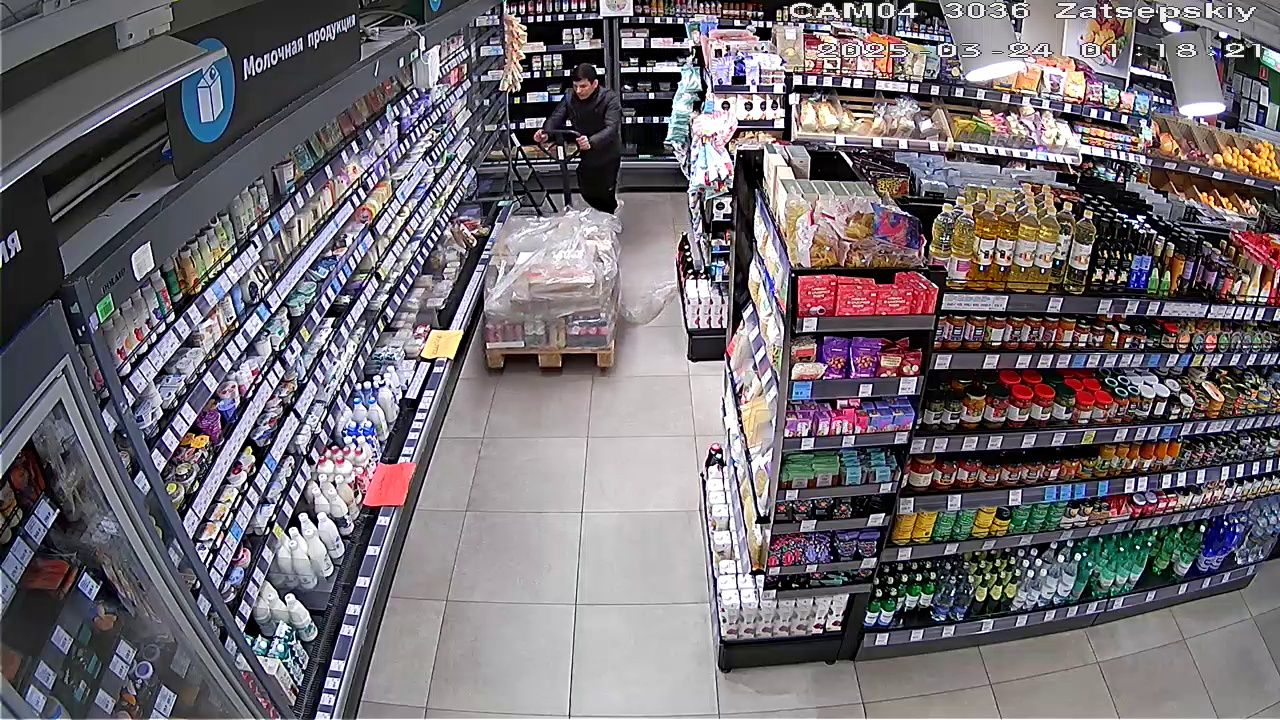Human: (523, 58, 636, 209)
pallet: (486, 210, 619, 372)
